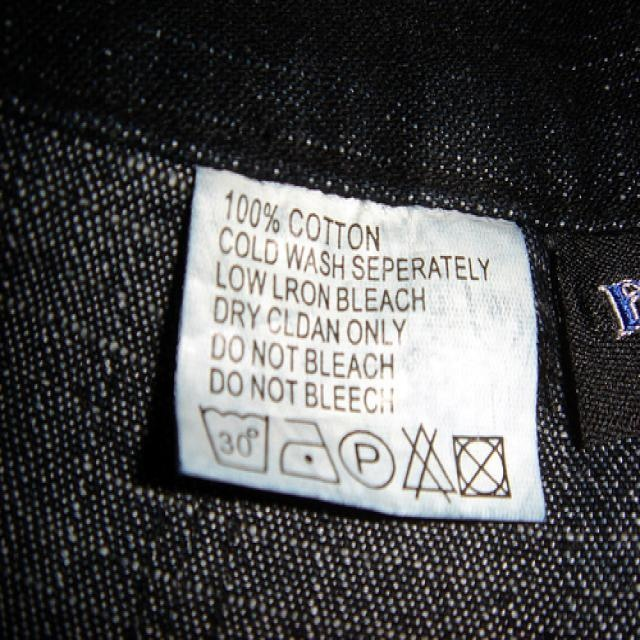30C: (200, 405, 273, 474)
DN_bleach: (403, 423, 454, 502)
DN_tumble_dry: (454, 429, 513, 503)
dry_clean_any_solvent_except_trichloroethylene: (338, 427, 397, 488)
iron_low: (278, 412, 339, 483)
